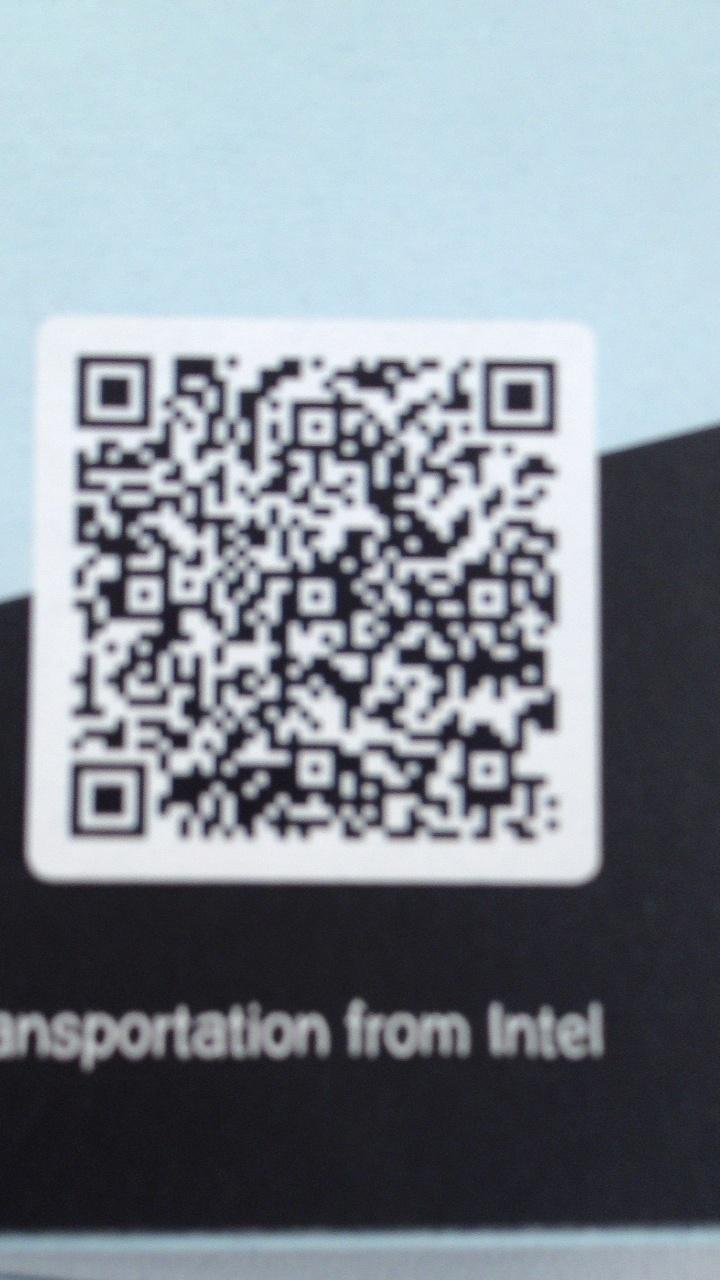Finder pattern: (66, 343, 164, 438), (58, 754, 156, 847), (474, 351, 567, 443)
